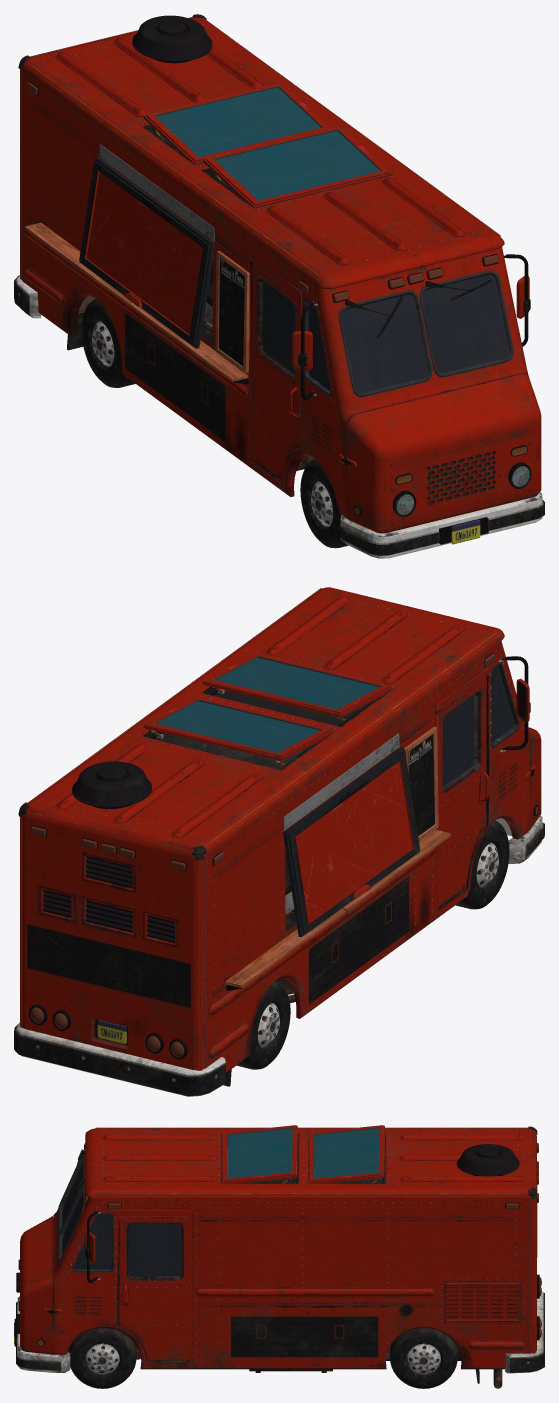
Rendered from veh_foodtruck.glb.
The picture shows the model from 3 angles, top to bottom: view 1: azimuth 30°, elevation 25°; view 2: azimuth 150°, elevation 25°; view 3: azimuth 270°, elevation 25°; orthographic projection. The views are drawn at different scales.
Parts seen in each view (by area): view 1: node_id102; view 2: node_id102; view 3: node_id102.
Part boxes in pixels (x1,y1,x2,y2): node_id102: (14, 14, 544, 558); node_id102: (14, 587, 544, 1096); node_id102: (14, 1125, 544, 1388).
Size of the model in its own units: 0.00423 by 0.00512 by 0.0112.
1 material, 1 textured.
